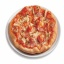pizza: (8, 5, 56, 57)
